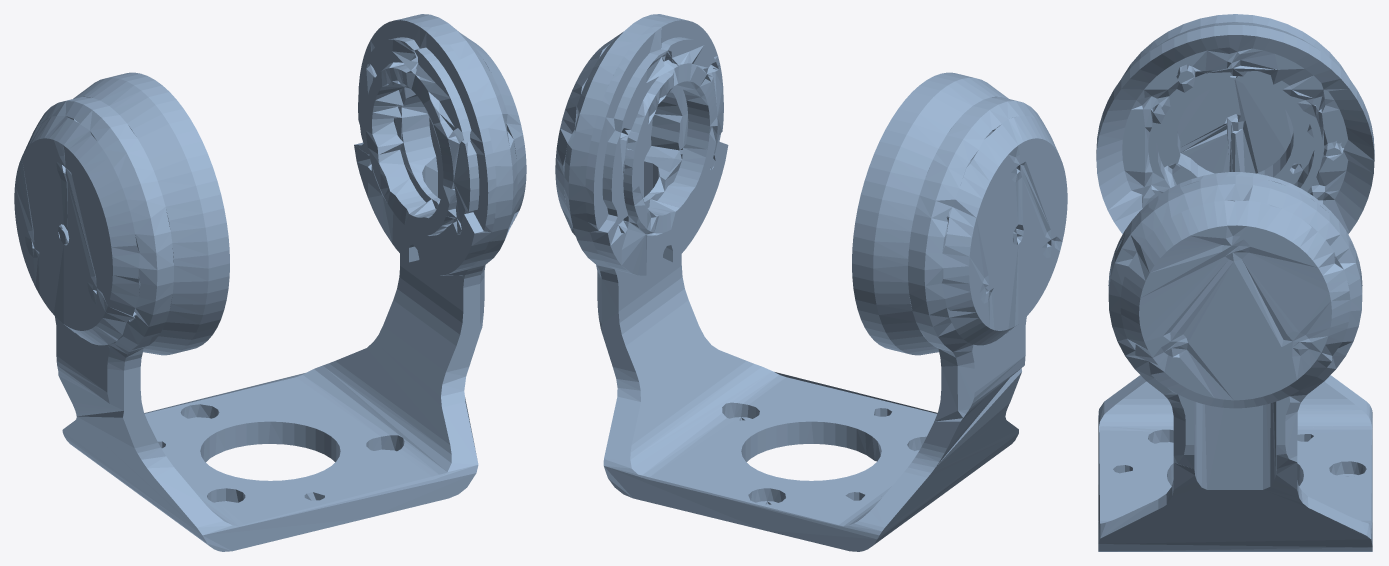
File: A2R3_T7_wristYaw.dae
3 views of the same model, side by side, from view 1: azimuth 30°, elevation 25°; view 2: azimuth 150°, elevation 25°; view 3: azimuth 270°, elevation 25° (orthographic). The views are drawn at different scales.
Parts seen in each view (by area): view 1: A2R3_T7_wristYaw; view 2: A2R3_T7_wristYaw; view 3: A2R3_T7_wristYaw.
Part boxes in pixels (<box>): A2R3_T7_wristYaw: <box>14,14,526,551</box>; A2R3_T7_wristYaw: <box>555,14,1067,551</box>; A2R3_T7_wristYaw: <box>1096,14,1374,551</box>.
Bounding box in the file's own units: 0.0681 × 0.0405 × 0.0657.
